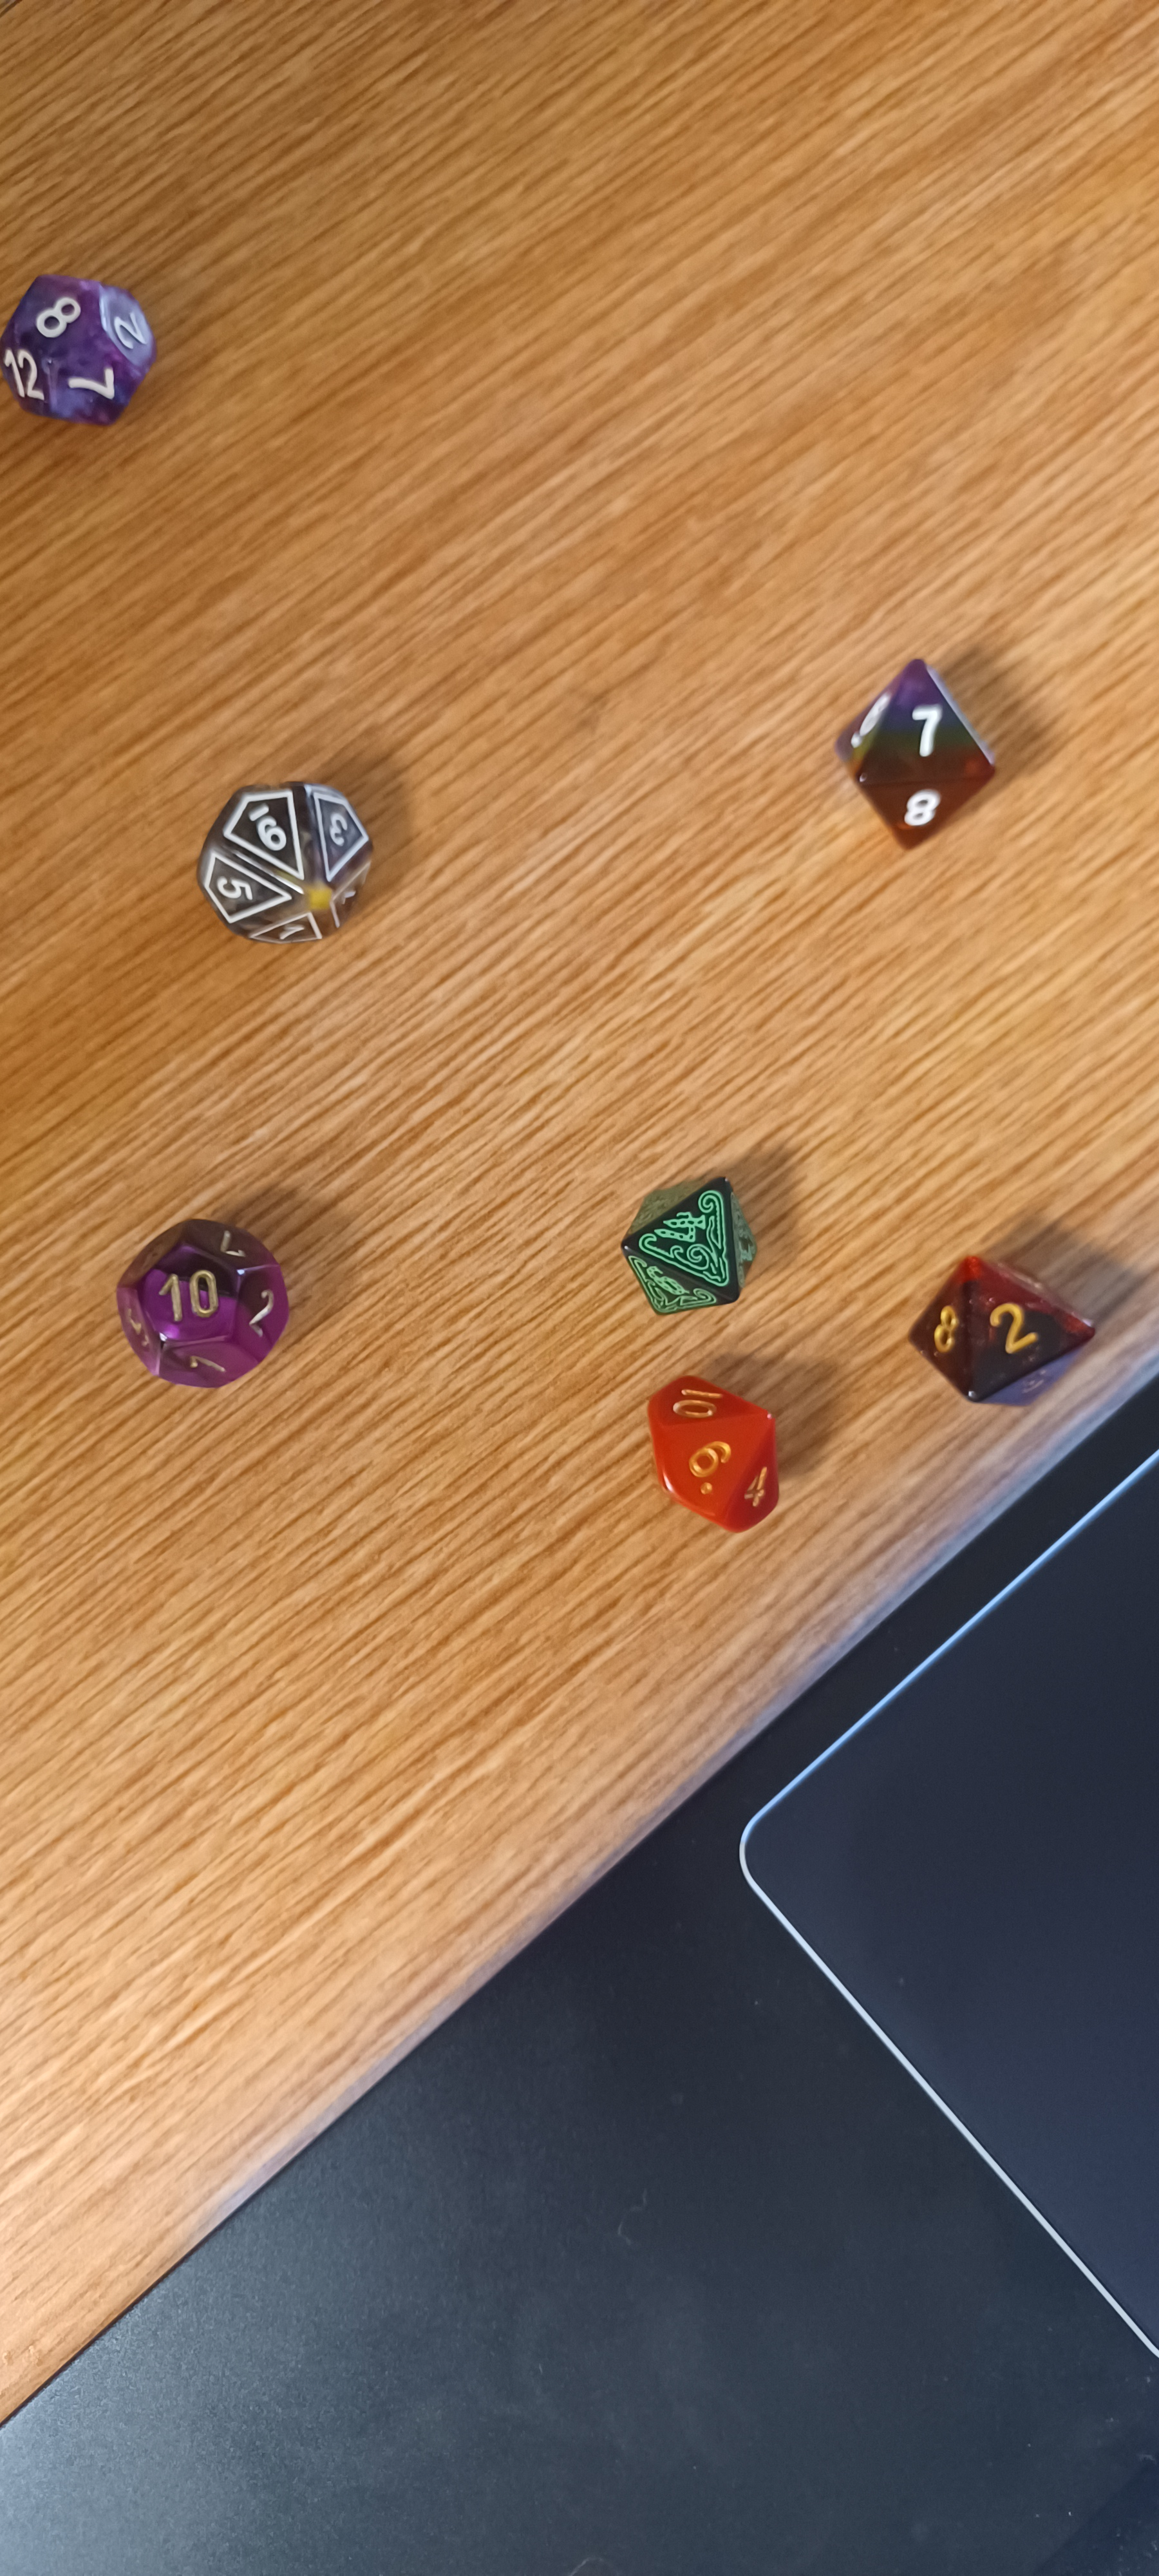eight: (10, 256, 174, 442)
four: (591, 1161, 796, 1341)
nine: (153, 752, 430, 963)
seven: (804, 621, 1028, 871)
six: (609, 1352, 827, 1548)
ten: (90, 1165, 323, 1424)
two: (888, 1222, 1123, 1444)
